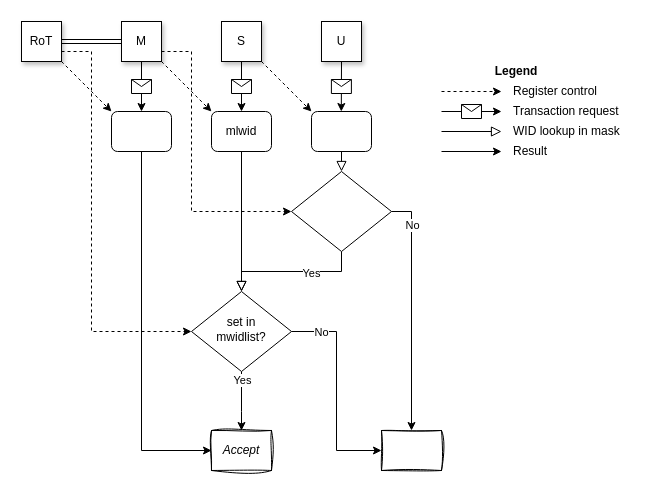
Image size: 659x488. Some labels were removed from this diagram. The shapes that lost their labels are listed below. From the top down, each one's centre as x and y in pixels, then its label:
At point 141,131: "mwid".
At point 341,131: "slwid".
At point 341,211: "set in mwiddeleg?".
At point 411,450: "Reject".
